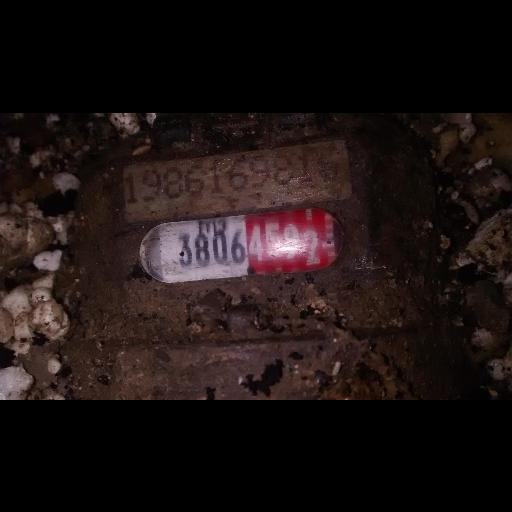0: (208, 216, 232, 278)
2: (299, 205, 338, 271)
3: (172, 220, 197, 282)
4: (243, 212, 267, 275)
5: (261, 211, 285, 274)
6: (226, 214, 250, 277)
8: (190, 218, 215, 280)
9: (280, 208, 305, 273)
border_water_meter_number: (137, 205, 345, 285)
